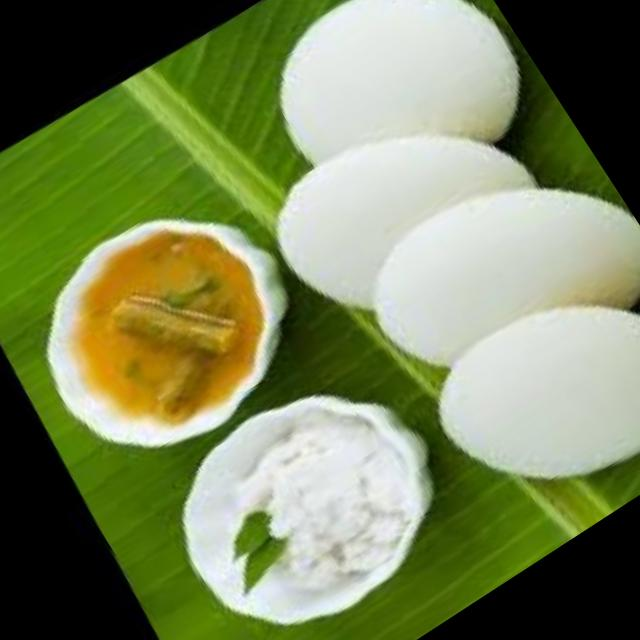idli: (332, 119, 640, 432), (238, 64, 552, 346), (228, 0, 545, 238), (402, 241, 640, 538)
